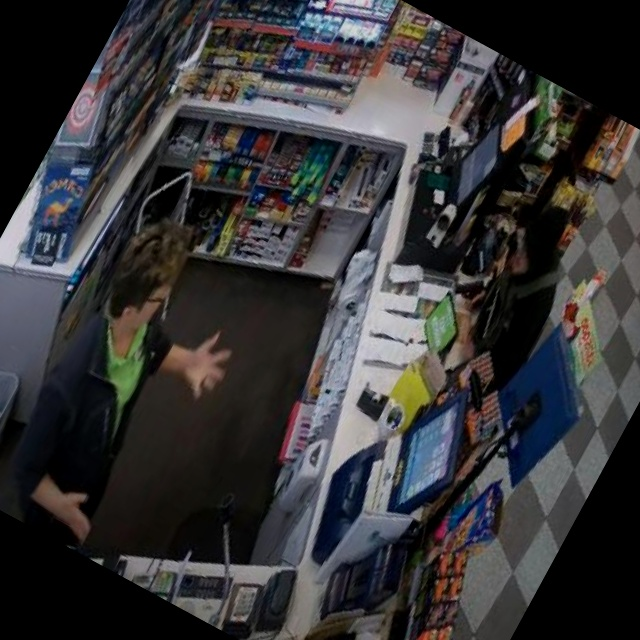gun: (446, 267, 494, 317)
